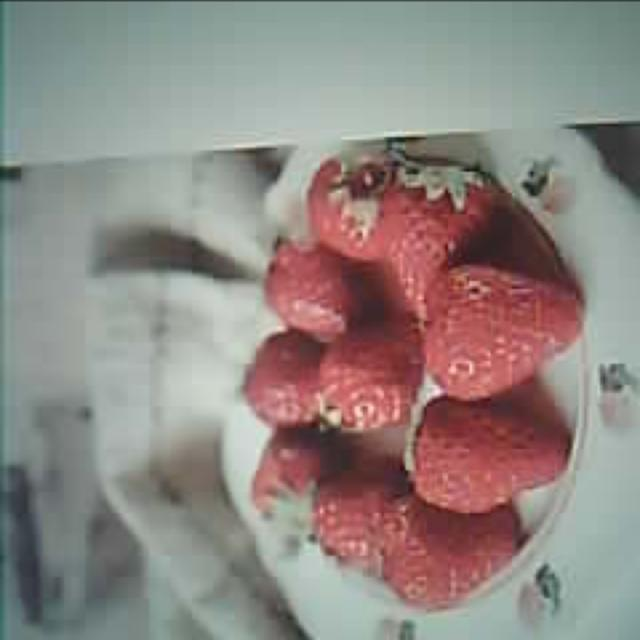ripe: (420, 264, 572, 392), (408, 401, 569, 511)
